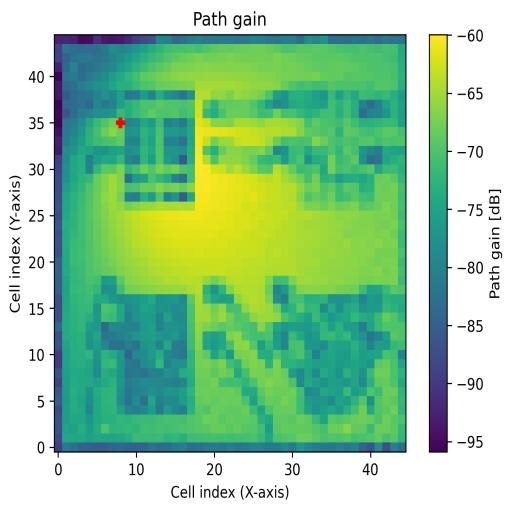Concrete: (296, 92, 375, 202)
Glass: (124, 90, 195, 200)
Metal: (290, 294, 382, 416)
Wood: (117, 295, 195, 415)
